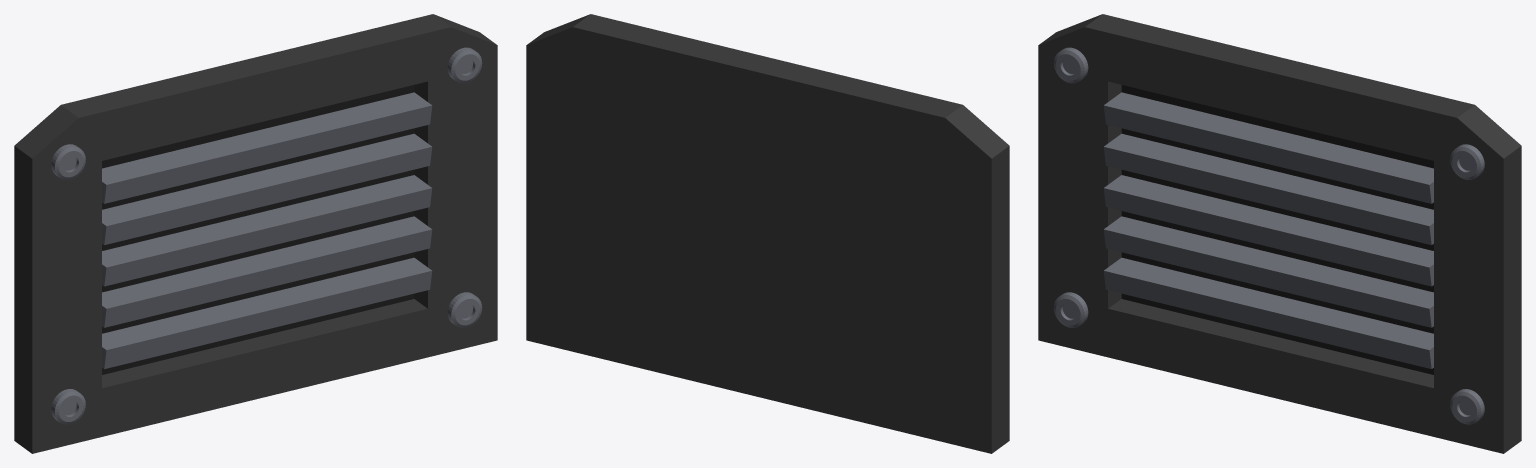
Rendered from HubVent.fbx.
3 renders of one model, left to right at view 1: azimuth 30°, elevation 25°; view 2: azimuth 150°, elevation 25°; view 3: azimuth 330°, elevation 25°, orthographic.
Parts seen in each view (by area): view 1: Cube, Cylinder; view 2: Cube; view 3: Cube, Cylinder.
Part boxes in pixels (x1=…): Cube: x1=14, y1=14, x2=497, y2=453; Cylinder: x1=51, y1=47, x2=482, y2=424; Cube: x1=526, y1=14, x2=1009, y2=453; Cube: x1=1038, y1=14, x2=1521, y2=453; Cylinder: x1=1053, y1=47, x2=1484, y2=424.
Size of the model in its own units: 600 by 400 by 50.
Materials: 1 (1 with a texture image).
